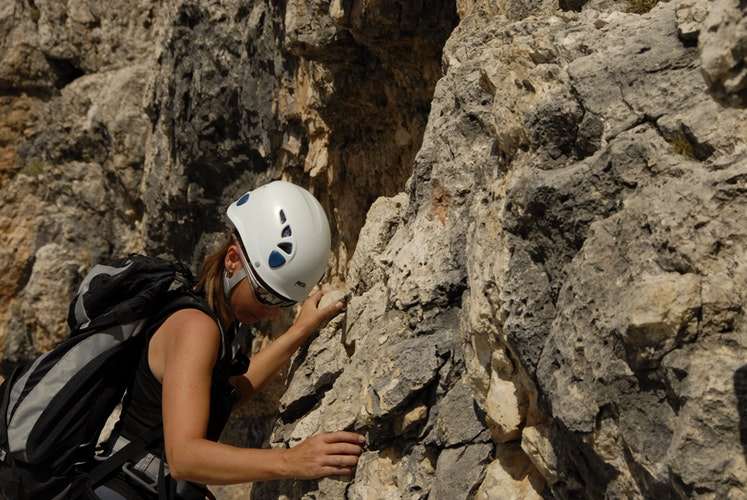helmet: (215, 178, 332, 297)
